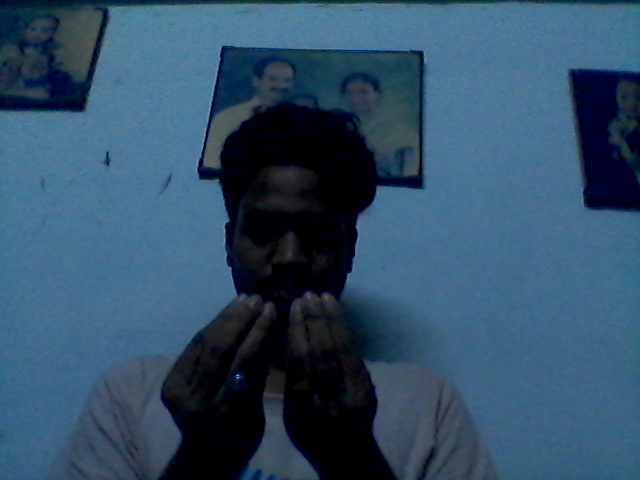Sorry: (158, 290, 389, 467)
